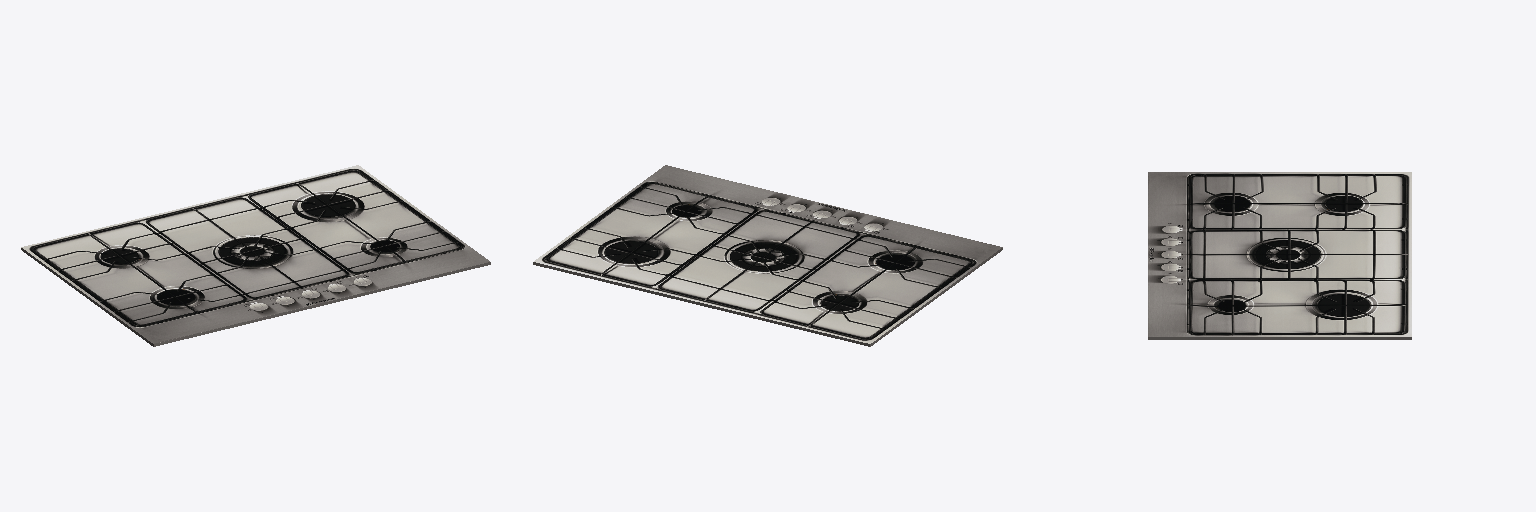
3 views of the same model, side by side, from view 1: azimuth 30°, elevation 25°; view 2: azimuth 150°, elevation 25°; view 3: azimuth 270°, elevation 25° (orthographic).
Parts seen in each view (by area): view 1: cube1; view 2: cube1; view 3: cube1.
Part boxes in pixels (left/top/right/bottom): cube1: left=21, top=165, right=490, bottom=346; cube1: left=533, top=165, right=1002, bottom=346; cube1: left=1148, top=172, right=1411, bottom=339.
Size of the model in its own units: 2 by 0.0161 by 1.36.
Materials: 1 (1 with a texture image).